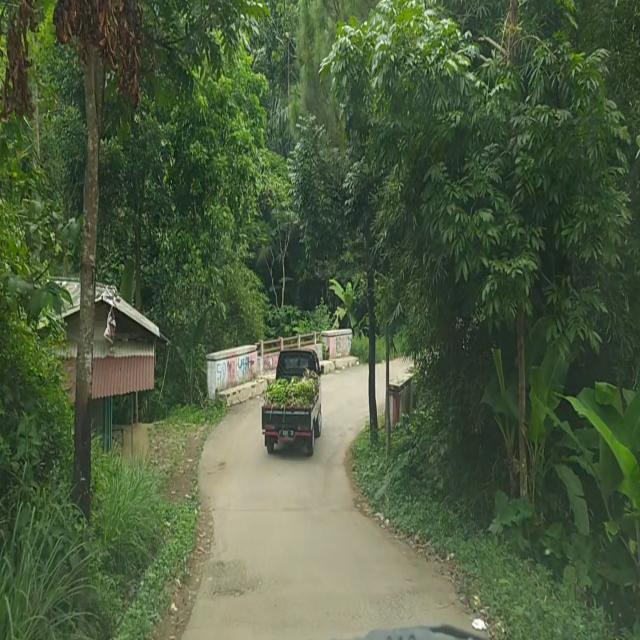Drain Hole: (361, 573, 429, 626), (209, 557, 253, 599)
